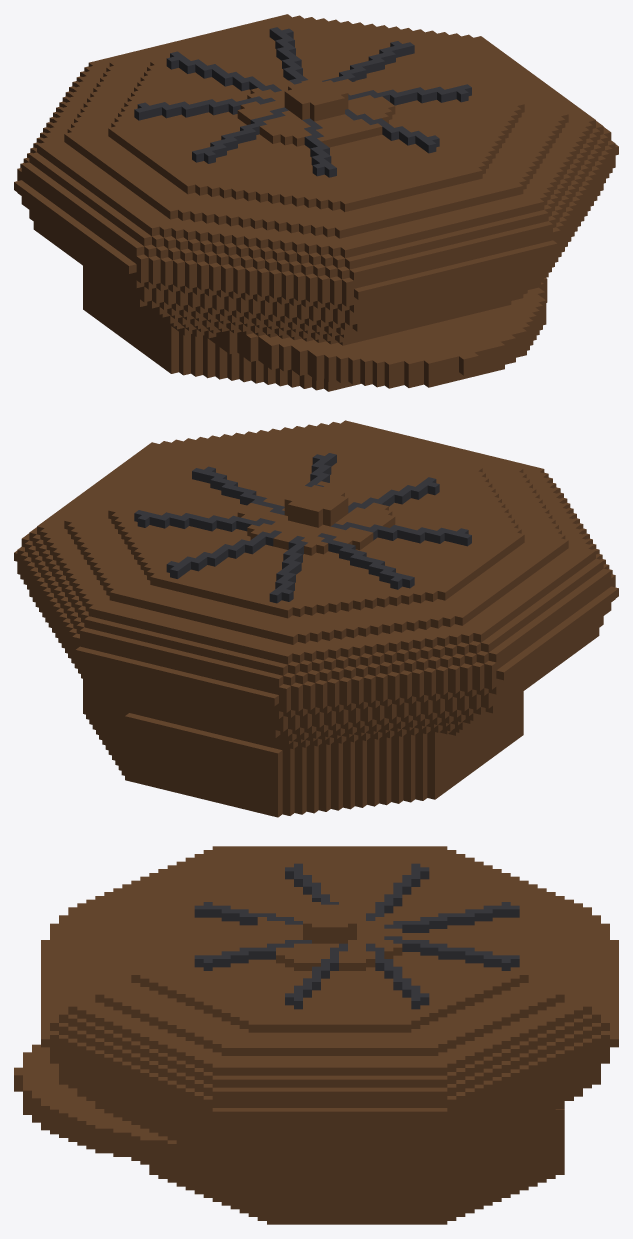
The model's file is newsboy_cap.glb.
The picture shows the model from 3 angles, top to bottom: view 1: azimuth 30°, elevation 25°; view 2: azimuth 150°, elevation 25°; view 3: azimuth 270°, elevation 25°; orthographic projection. The views are drawn at different scales.
Parts seen in each view (by area): view 1: newsboy_cap:compound; view 2: newsboy_cap:compound; view 3: newsboy_cap:compound.
Boxes of the visible parts, left/top/right/bottom form: newsboy_cap:compound: left=14, top=14, right=618, bottom=391; newsboy_cap:compound: left=14, top=420, right=618, bottom=817; newsboy_cap:compound: left=14, top=846, right=618, bottom=1224.
Bounding box in the file's own units: 0.256 × 0.108 × 0.268.
